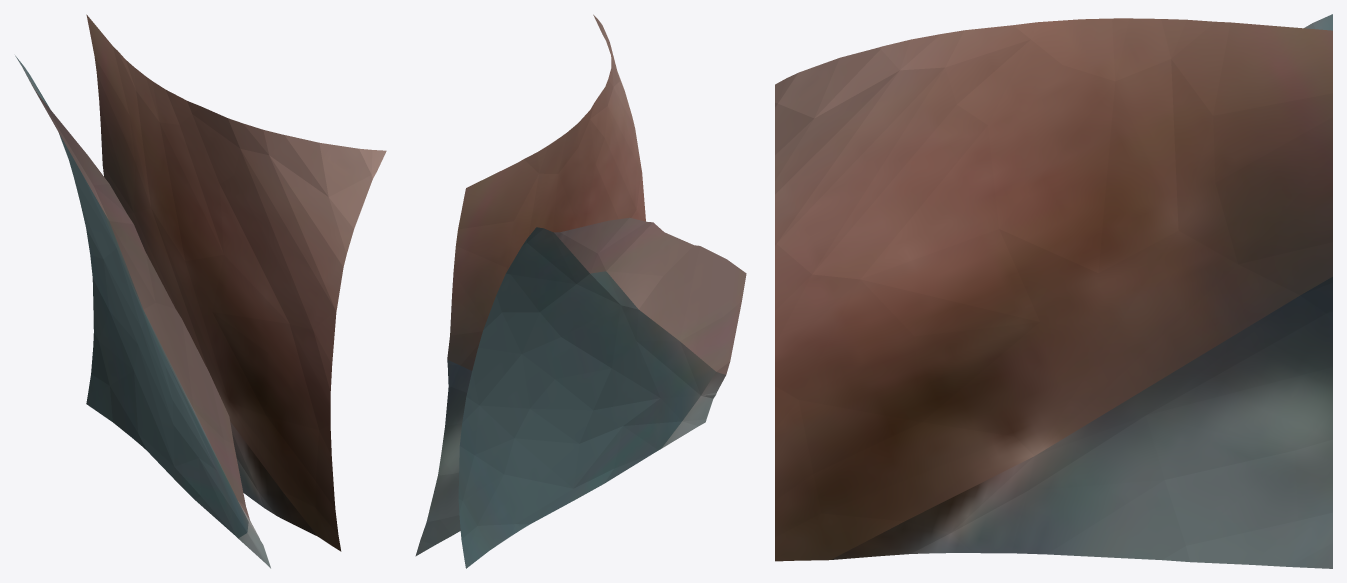
The picture shows the model from 3 angles, left to right: view 1: azimuth 30°, elevation 25°; view 2: azimuth 150°, elevation 25°; view 3: azimuth 270°, elevation 25°; orthographic projection. The views are drawn at different scales.
Parts seen in each view (by area): view 1: 091_W_Aya_100K_01; view 2: 091_W_Aya_100K_01; view 3: 091_W_Aya_100K_01.
Boxes of the visible parts, x1,y1,x2,y2 form: 091_W_Aya_100K_01: (15, 14, 386, 568); 091_W_Aya_100K_01: (415, 14, 746, 568); 091_W_Aya_100K_01: (775, 14, 1332, 568).
Bounding box in the file's own units: 18.11 × 42.87 × 42.87.
Materials: 1 (1 with a texture image).
